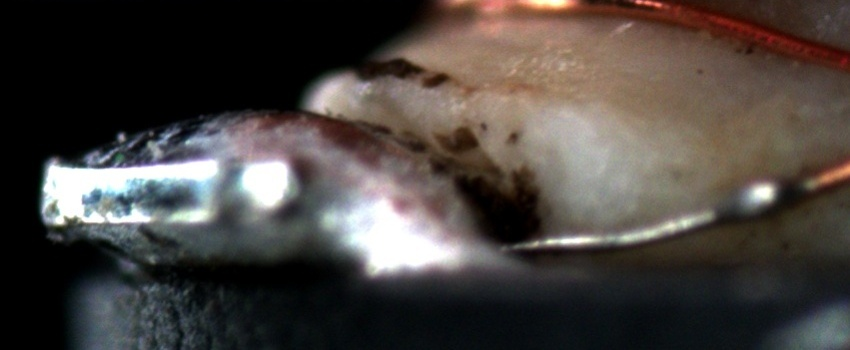TB: (719, 173, 795, 224)
TS: (502, 179, 818, 253)
TTCW: (508, 159, 849, 258)
